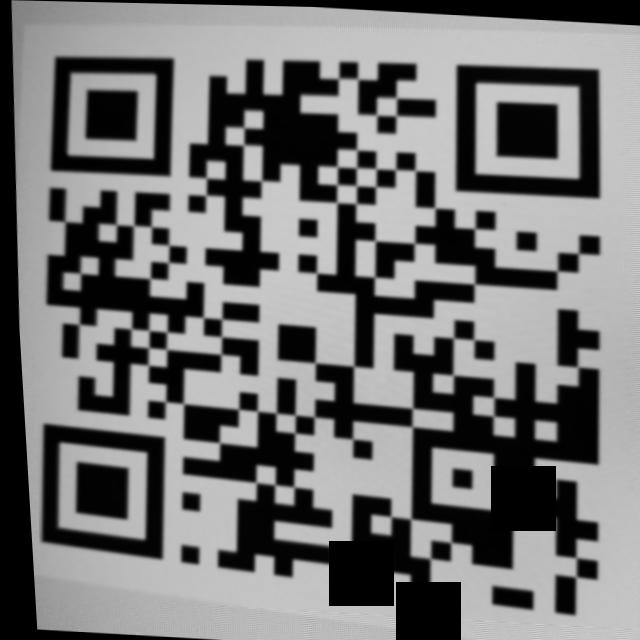QR_CODE: (6, 16, 640, 627)
